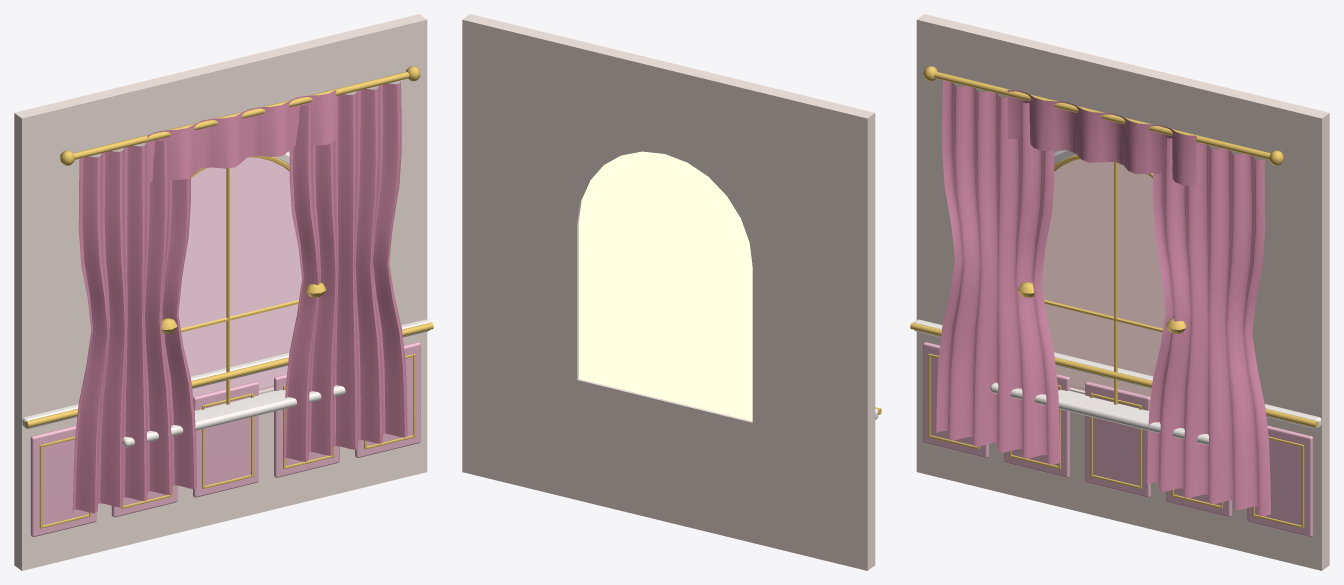
The model's file is wall_window_curtains.glb.
3 views of the same model, side by side, from view 1: azimuth 30°, elevation 25°; view 2: azimuth 150°, elevation 25°; view 3: azimuth 330°, elevation 25° (orthographic).
Visible parts, largest first — view 1: wall_window_curtains; view 2: wall_window_curtains; view 3: wall_window_curtains.
Boxes of the visible parts, x1,y1,x2,y2 form: wall_window_curtains: (14,14,433,570); wall_window_curtains: (462,14,881,570); wall_window_curtains: (910,14,1329,570).
Size of the model in its own units: 3 by 3.2 by 0.38.
